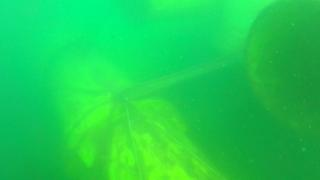pipe: (43, 42, 227, 180), (244, 1, 320, 136), (219, 1, 274, 69), (105, 1, 221, 24)
